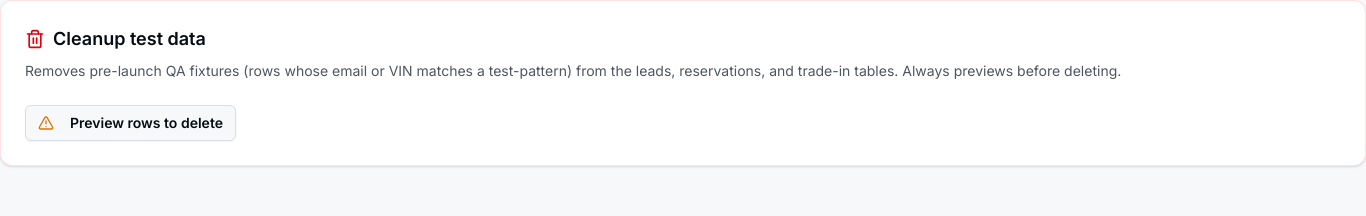
Test: CleanupTestDataCard › renders a string error from the API
Click the button "Preview rows to delete" at (130, 123), box [25,105,236,141]
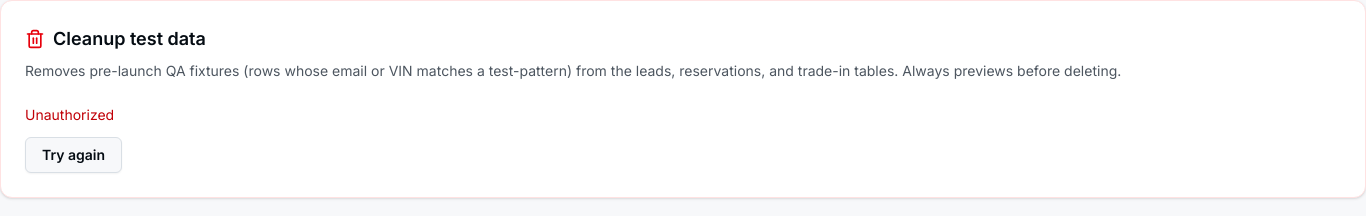
Check: the text "Unauthorized" is shown, box [25,106,114,123]
